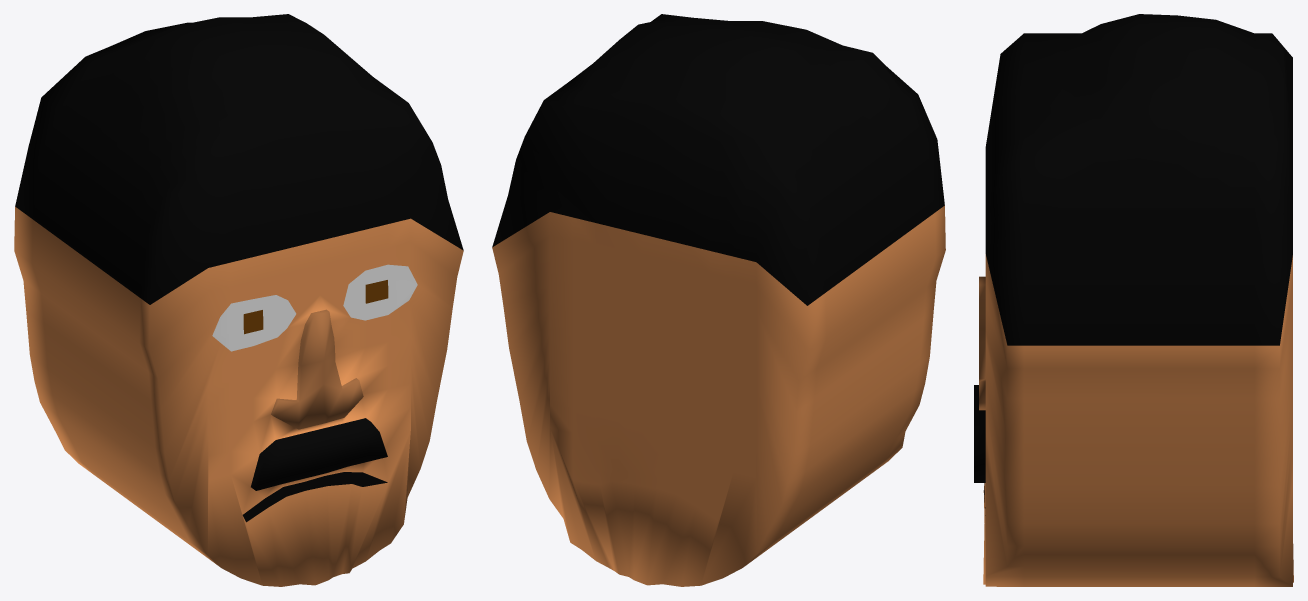
File: hitler.fbx
The picture shows the model from 3 angles, left to right: view 1: azimuth 30°, elevation 25°; view 2: azimuth 150°, elevation 25°; view 3: azimuth 270°, elevation 25°; orthographic projection. The views are drawn at different scales.
Parts seen in each view (by area): view 1: Cube; view 2: Cube; view 3: Cube.
Part boxes in pixels (x1,y1,x2,y2): Cube: [14, 14, 463, 586]; Cube: [492, 14, 945, 586]; Cube: [974, 14, 1293, 586].
Size of the model in its own units: 3.25 by 4.84 by 2.65.
